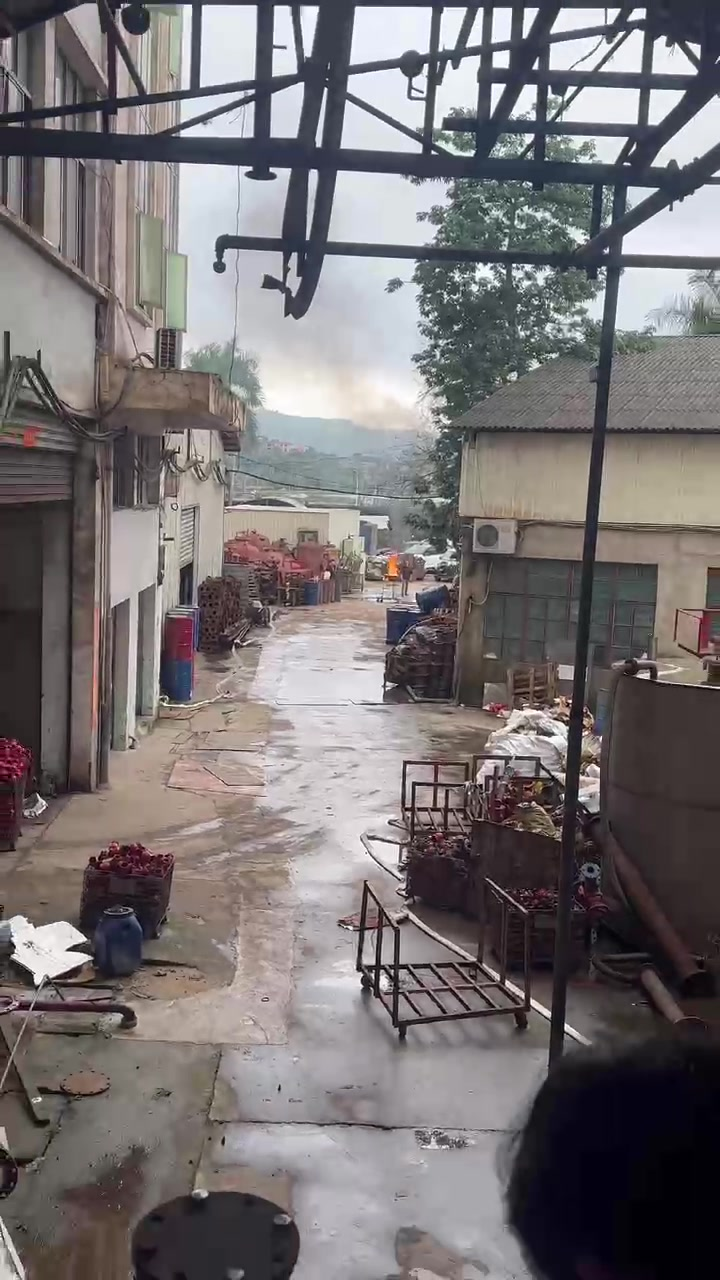fire: (388, 555, 397, 575)
